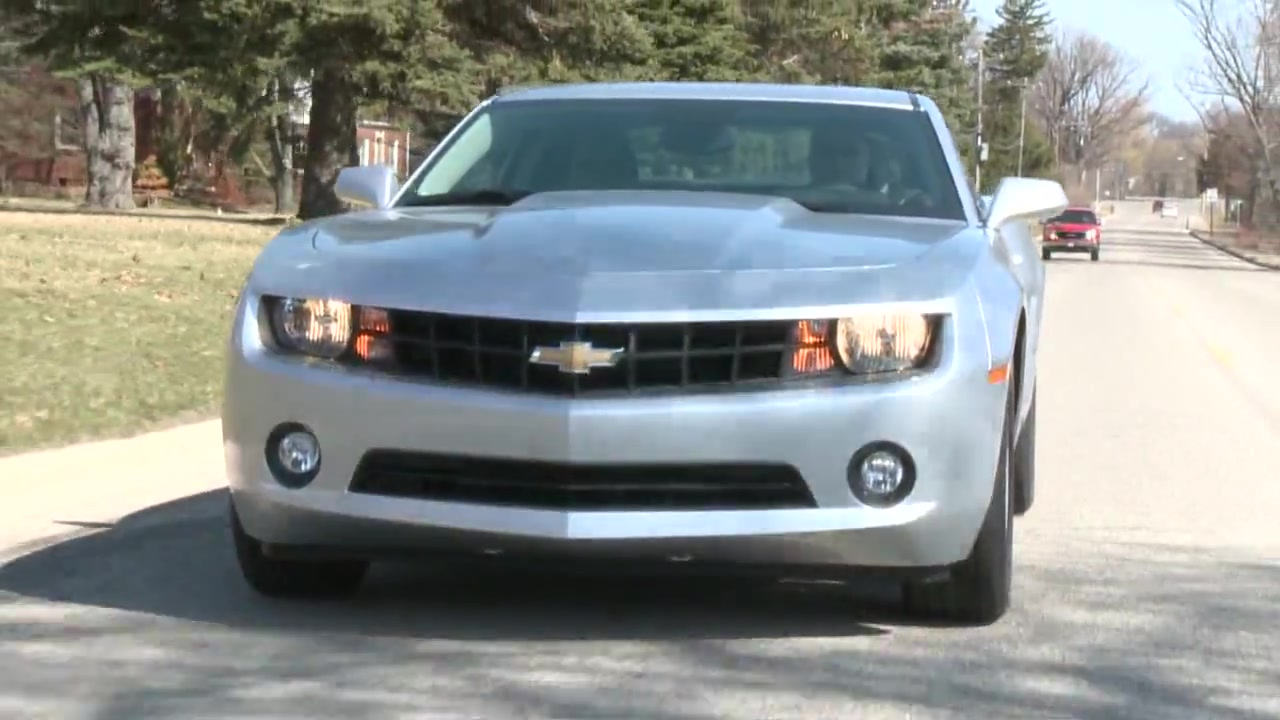car: (223, 80, 1071, 623)
